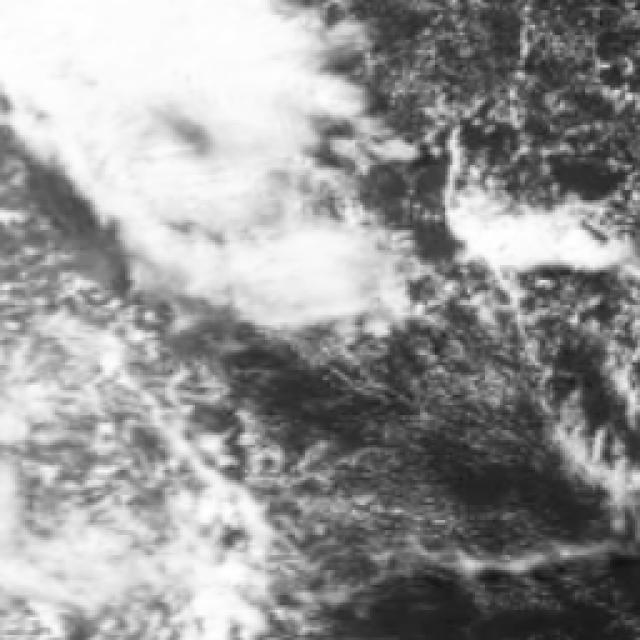CB: (124, 5, 326, 161), (0, 0, 210, 131), (99, 124, 294, 233), (166, 217, 361, 323)
